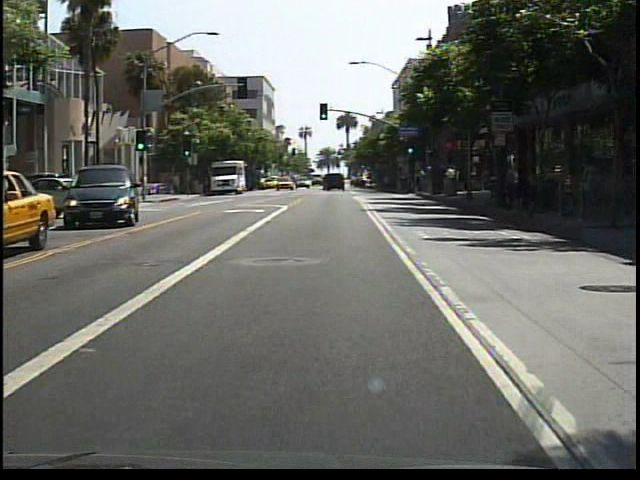person: (170, 169, 184, 195), (163, 172, 175, 195)
